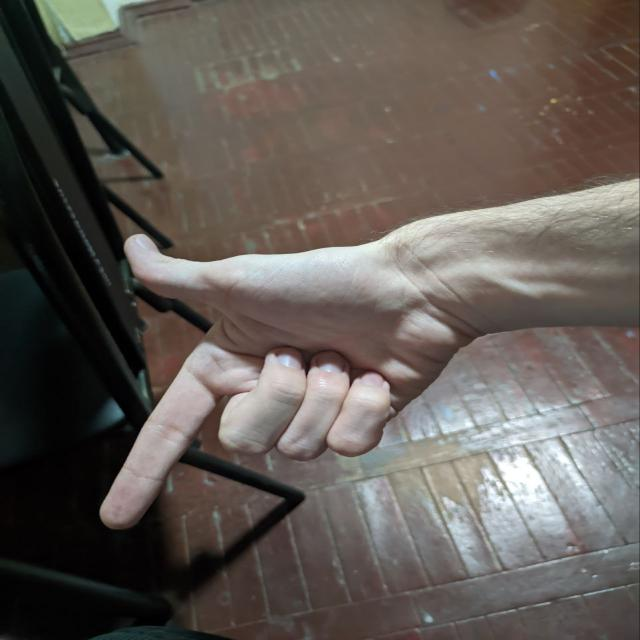g: (91, 220, 421, 533)
